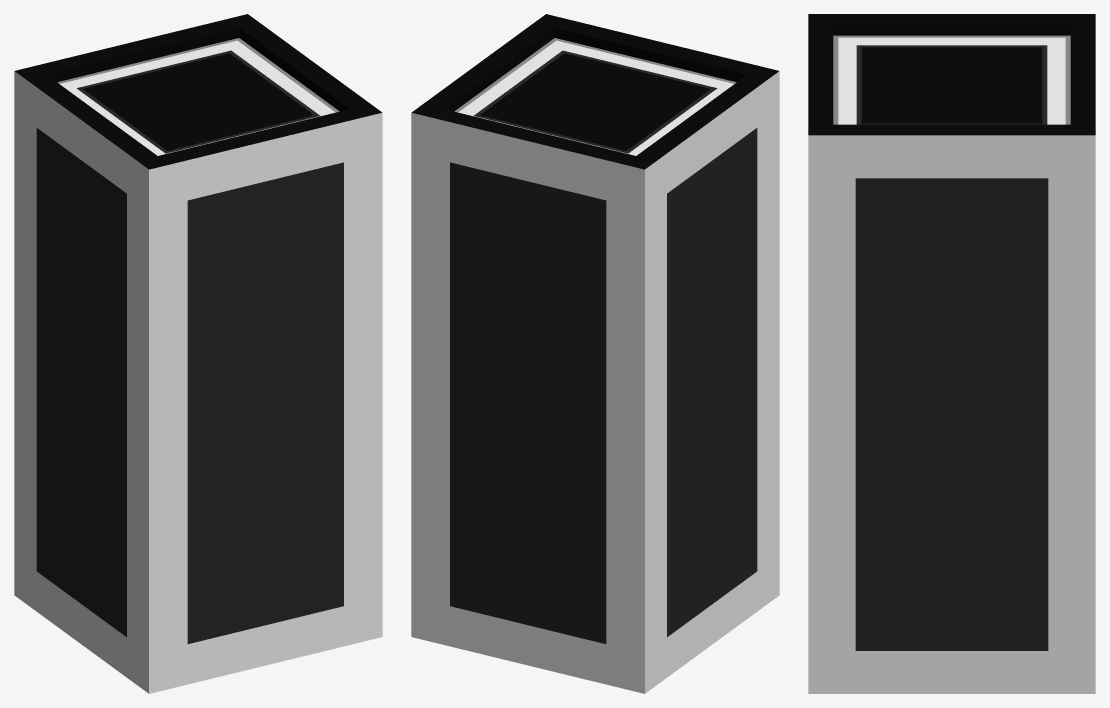
File: Pillar.glb
3 views of the same model, side by side, from view 1: azimuth 30°, elevation 25°; view 2: azimuth 150°, elevation 25°; view 3: azimuth 270°, elevation 25° (orthographic). The views are drawn at different scales.
Parts seen in each view (by area): view 1: Cube; view 2: Cube; view 3: Cube.
Boxes of the visible parts, box(x1,y1,x2,y2) form: Cube: box(14, 14, 382, 693); Cube: box(411, 14, 779, 693); Cube: box(808, 14, 1095, 693).
Bounding box in the file's own units: 1.84 × 4.01 × 1.84.
1 material, 1 textured.
